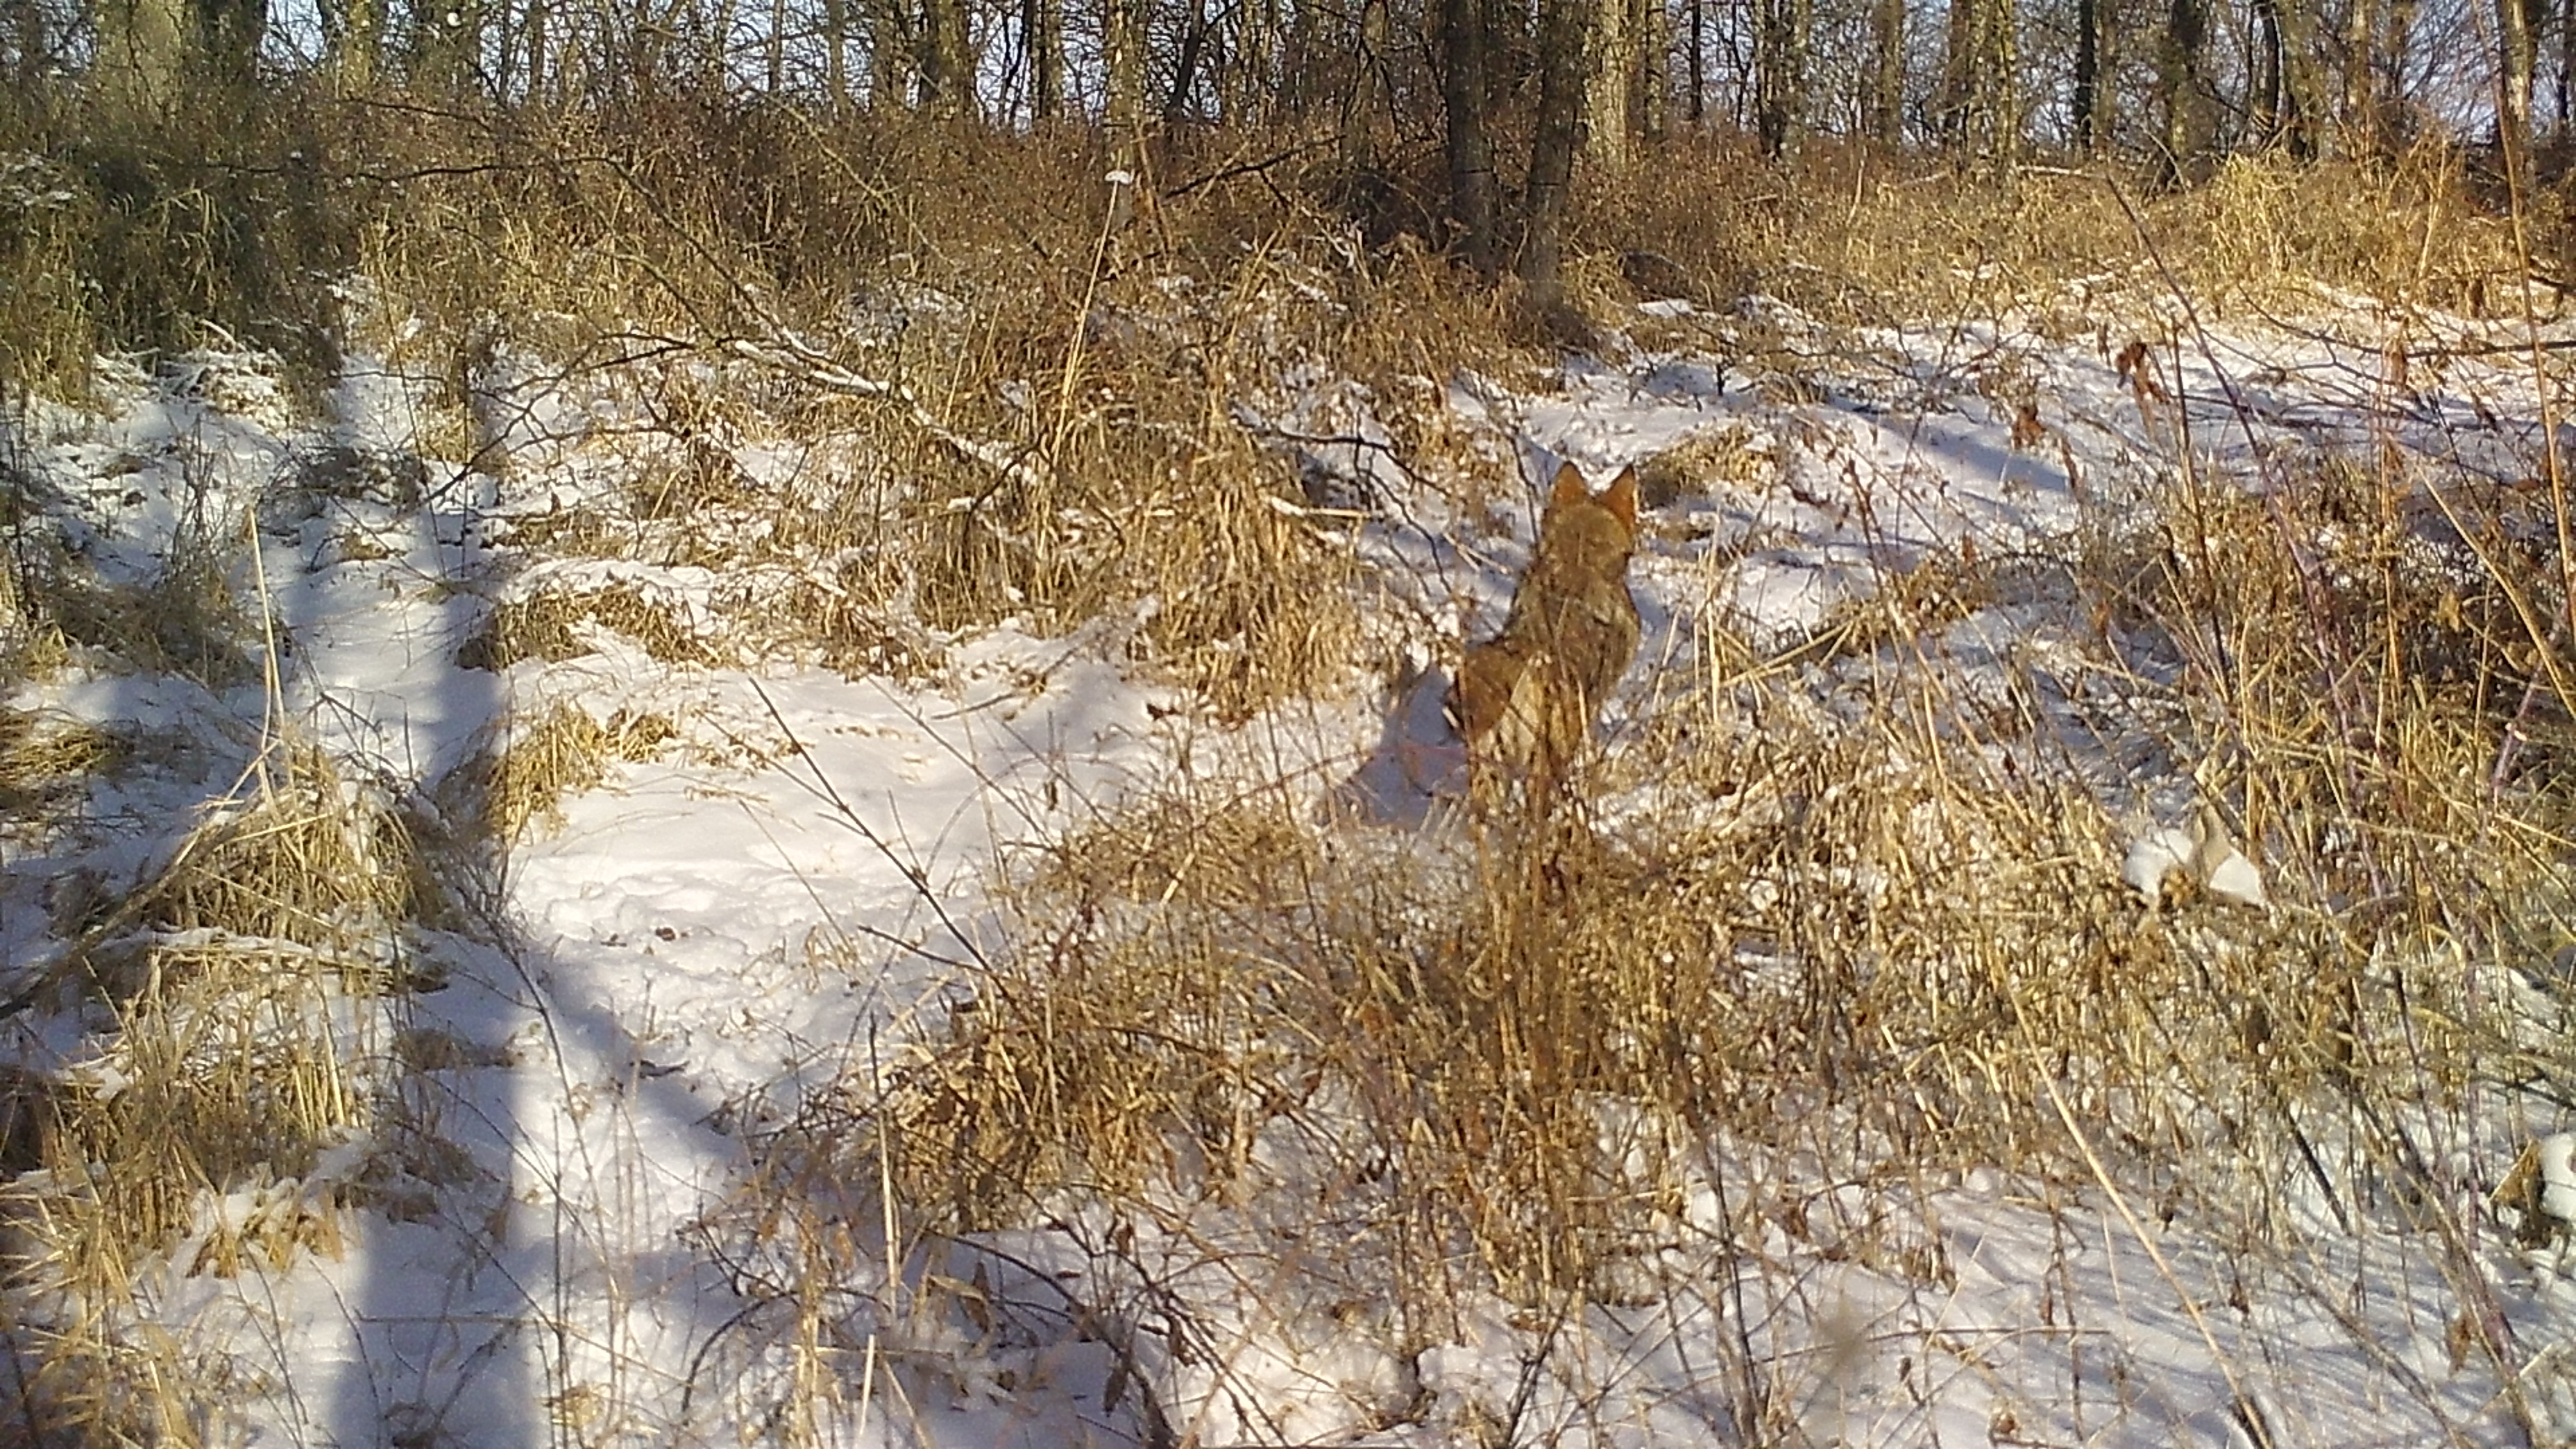Coyote: (1433, 453, 1640, 803)
